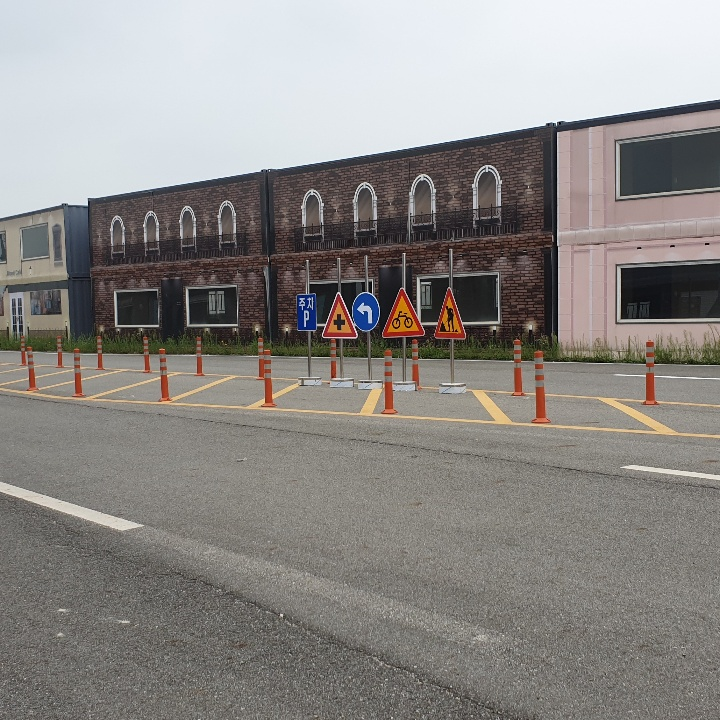bicycle: (385, 291, 423, 336)
const: (435, 300, 462, 336)
inter: (330, 311, 347, 335)
